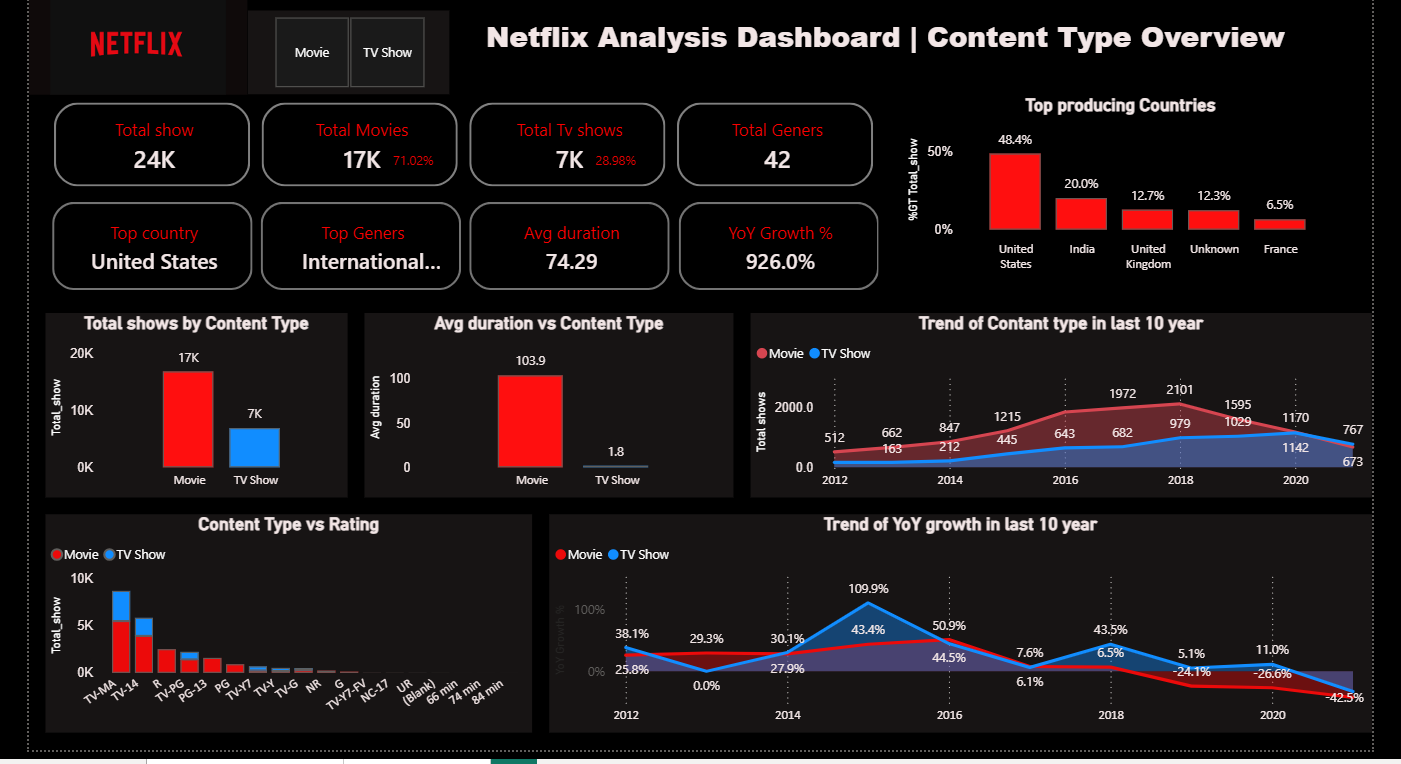

The page's visual inventory and layout, read from the dashboard file:
{"tool":"powerbi","page":{"name":"Content Type Overview","canvas":[1280,720],"ordinal":0},"visuals":[{"type":"cardVisual","fields":{"Data":["Netflix_dataset.Total_show","Netflix_dataset.Total Movies","Netflix_dataset.Total Tv_shows","Netflix_dataset.Total Geners"]},"box":[0,80,832,128],"z":0},{"type":"textbox","box":[416,16,800,64],"z":1000},{"type":"columnChart","title":"Total shows by Content Type","fields":{"Category":["Netflix_dataset.Type"],"Y":["Netflix_dataset.Total_show"]},"box":[16,304,288,176],"z":2000},{"type":"textbox","box":[336,144,64,32],"z":3000},{"type":"textbox","box":[528,144,64,32],"z":4000},{"type":"cardVisual","fields":{"Data":["Netflix_dataset.Top country","Netflix_dataset.Top Geners","Netflix_dataset.Avg_duration","Netflix_dataset.YoY growth"]},"box":[0,176,832,128],"z":5000},{"type":"lineChart","title":"Trend of Contant type in last 10 year","fields":{"Category":["Netflix_dataset.Release_year"],"Y":["Netflix_dataset.Total_show"],"Series":["Netflix_dataset.Type"]},"box":[688,304,592,176],"z":6000},{"type":"slicer","fields":{"Values":["Netflix_dataset.Type"]},"box":[209,16,192,80],"z":7000},{"type":"columnChart","title":"Avg duration vs  Content Type","fields":{"Y":["Netflix_dataset.Avg_duration"],"Category":["Netflix_dataset.Type"]},"box":[320,304,352,176],"z":8000},{"type":"columnChart","title":"Top producing  Countries","fields":{"Category":["Netflix_dataset.Country"],"Y":["Netflix_dataset.Total_show"]},"box":[832,96,416,176],"z":9000},{"type":"image","box":[0,0,208,96],"z":10000},{"type":"columnChart","title":" Content Type vs Rating","fields":{"Y":["Netflix_dataset.Total_show"],"Series":["Netflix_dataset.Type"],"Category":["Netflix_dataset.Rating"]},"box":[16,496,464,208],"z":11000},{"type":"lineChart","title":"Trend of YoY growth in last 10  year","fields":{"Category":["Netflix_dataset.Release_year"],"Y":["Netflix_dataset.YoY growth"],"Series":["Netflix_dataset.Type"]},"box":[496,496,784,208],"z":12000}]}

Visuals, with their boxes on the page's 1280x720 design canvas (x1, y1, x2, y2). These are canvas units, not pixel positions in the 1401x764 screenshot, which may show the page scaled, cropped or inside an application window:
cardVisual - Netflix_dataset.Total_show x Netflix_dataset.Total Movies: [0,80,832,208]
textbox: [416,16,1216,80]
"Total shows by Content Type" columnChart: [16,304,304,480]
textbox: [336,144,400,176]
textbox: [528,144,592,176]
cardVisual - Netflix_dataset.Top country x Netflix_dataset.Top Geners: [0,176,832,304]
"Trend of Contant type in last 10 year" lineChart: [688,304,1280,480]
slicer - Netflix_dataset.Type: [209,16,401,96]
"Avg duration vs  Content Type" columnChart: [320,304,672,480]
"Top producing  Countries" columnChart: [832,96,1248,272]
image: [0,0,208,96]
" Content Type vs Rating" columnChart: [16,496,480,704]
"Trend of YoY growth in last 10  year" lineChart: [496,496,1280,704]
